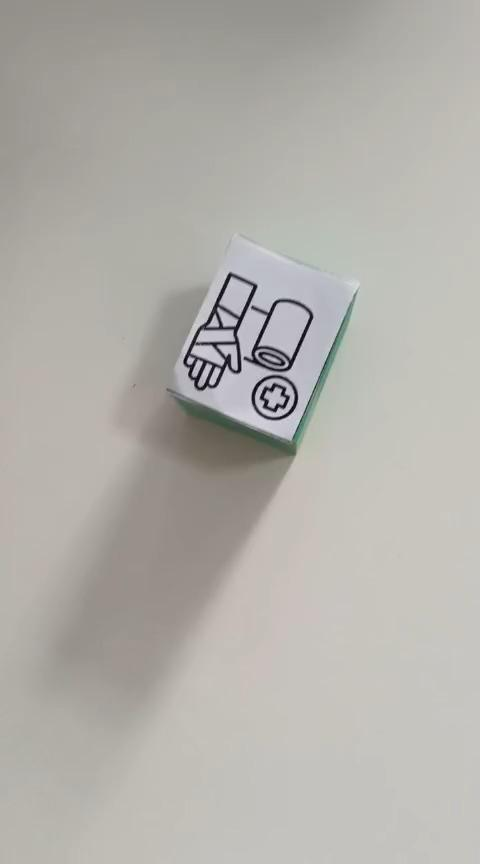Bandages: (165, 231, 360, 455)
